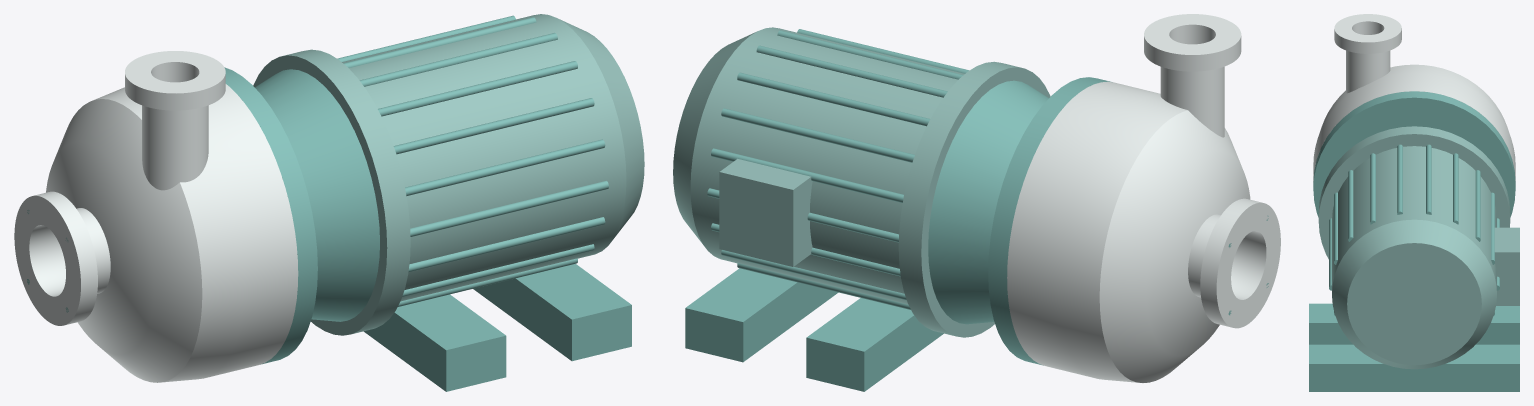
3 renders of one model, left to right at view 1: azimuth 30°, elevation 25°; view 2: azimuth 150°, elevation 25°; view 3: azimuth 270°, elevation 25°, orthographic. The views are drawn at different scales.
Parts seen in each view (by area): view 1: 泵体_圆弧壳与轴向进液口, 电机_带筋机壳, 支脚_电机底脚 (×2), 连接座_短连接段, 电机_连接法兰, 连接座_泵壳连接环, 接口_朝上出液法兰, 接口_偏置竖向出液管, 电机_圆弧尾罩, 电机_散热筋09, 电机_散热筋08, 电机_散热筋10 (+7 smaller); view 2: 泵体_圆弧壳与轴向进液口, 电机_带筋机壳, 支脚_电机底脚 (×2), 连接座_短连接段, 电机_连接法兰, 电机_接线盒, 连接座_泵壳连接环, 接口_朝上出液法兰, 电机_圆弧尾罩, 接口_偏置竖向出液管, 电机_散热筋03, 电机_散热筋04 (+8 smaller); view 3: 电机_圆弧尾罩, 支脚_电机底脚 (×2), 电机_带筋机壳, 连接座_泵壳连接环, 电机_连接法兰, 泵体_圆弧壳与轴向进液口, 接口_朝上出液法兰, 电机_接线盒, 接口_偏置竖向出液管, 电机_散热筋04, 电机_散热筋07, 电机_散热筋05 (+6 smaller).
Part boxes in pixels (x1,y1,x2,y2): 泵体_圆弧壳与轴向进液口: [14, 84, 298, 382]; 电机_带筋机壳: [342, 14, 626, 301]; 支脚_电机底脚 (×2): [364, 264, 631, 391]; 连接座_短连接段: [255, 69, 379, 321]; 电机_连接法兰: [253, 49, 410, 335]; 连接座_泵壳连接环: [224, 67, 317, 364]; 接口_朝上出液法兰: [125, 51, 225, 110]; 接口_偏置竖向出液管: [142, 79, 208, 190]; 电机_圆弧尾罩: [557, 18, 644, 240]; 电机_散热筋09: [405, 139, 605, 196]; 电机_散热筋08: [393, 98, 594, 154]; 电机_散热筋10: [410, 180, 608, 236]; 泵体_圆弧壳与轴向进液口: [1007, 81, 1280, 382]; 电机_带筋机壳: [690, 27, 964, 304]; 支脚_电机底脚 (×2): [685, 268, 943, 391]; 连接座_短连接段: [928, 80, 1048, 324]; 电机_连接法兰: [898, 61, 1050, 337]; 电机_接线盒: [719, 158, 812, 266]; 连接座_泵壳连接环: [988, 77, 1112, 365]; 接口_朝上出液法兰: [1144, 14, 1241, 71]; 电机_圆弧尾罩: [673, 32, 755, 243]; 接口_偏置竖向出液管: [1160, 41, 1224, 137]; 电机_散热筋03: [721, 108, 914, 162]; 电机_散热筋04: [737, 72, 930, 126]; 电机_圆弧尾罩: [1332, 219, 1496, 369]; 支脚_电机底脚 (×2): [1309, 303, 1519, 391]; 电机_带筋机壳: [1332, 146, 1496, 290]; 连接座_泵壳连接环: [1313, 91, 1515, 217]; 电机_连接法兰: [1318, 126, 1510, 259]; 泵体_圆弧壳与轴向进液口: [1313, 64, 1515, 180]; 接口_朝上出液法兰: [1334, 14, 1401, 53]; 电机_接线盒: [1494, 227, 1519, 305]; 接口_偏置竖向出液管: [1346, 33, 1390, 93]; 电机_散热筋04: [1453, 153, 1458, 224]; 电机_散热筋07: [1370, 153, 1375, 224]; 电机_散热筋05: [1426, 144, 1431, 214].
Bounding box in the file's own units: 0.417 × 0.25 × 0.2083.
